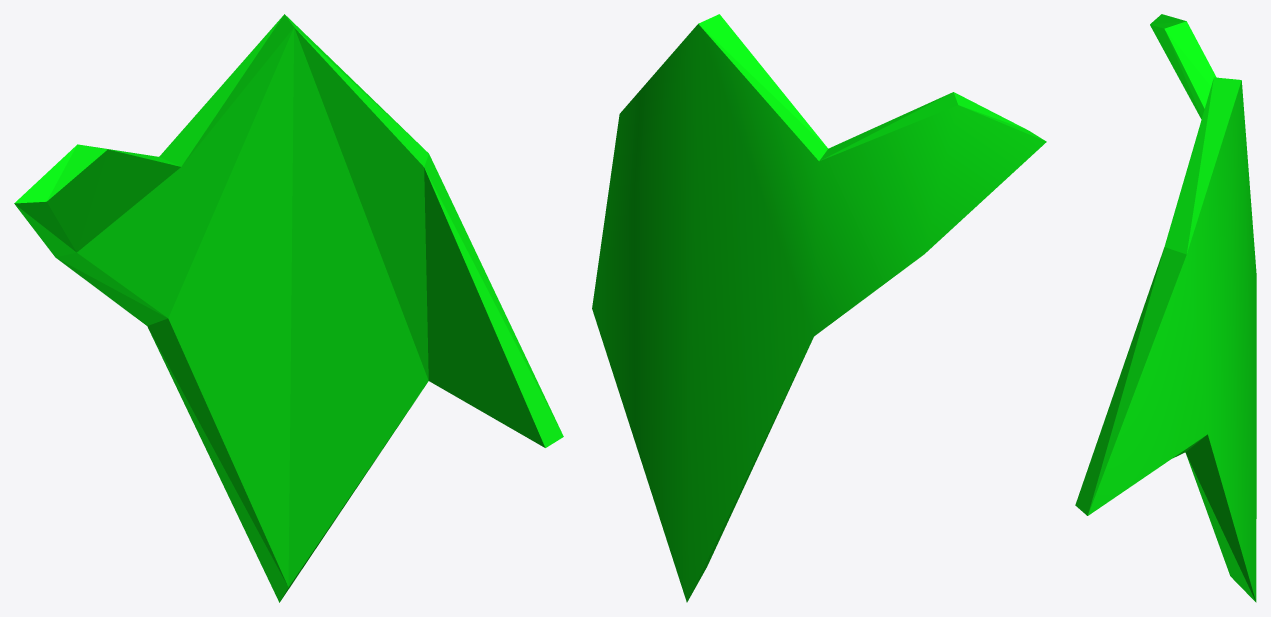
File: metal_piece_D.FBX
The picture shows the model from 3 angles, left to right: view 1: azimuth 30°, elevation 25°; view 2: azimuth 150°, elevation 25°; view 3: azimuth 270°, elevation 25°; orthographic projection. The views are drawn at different scales.
Visible parts, largest first — view 1: metal_piece_D; view 2: metal_piece_D; view 3: metal_piece_D.
Boxes of the visible parts, bbox=[...] form: metal_piece_D: bbox=[14, 14, 563, 602]; metal_piece_D: bbox=[592, 14, 1046, 602]; metal_piece_D: bbox=[1075, 14, 1256, 602].
Bounding box in the file's own units: 4.26 × 4.78 × 1.51.
